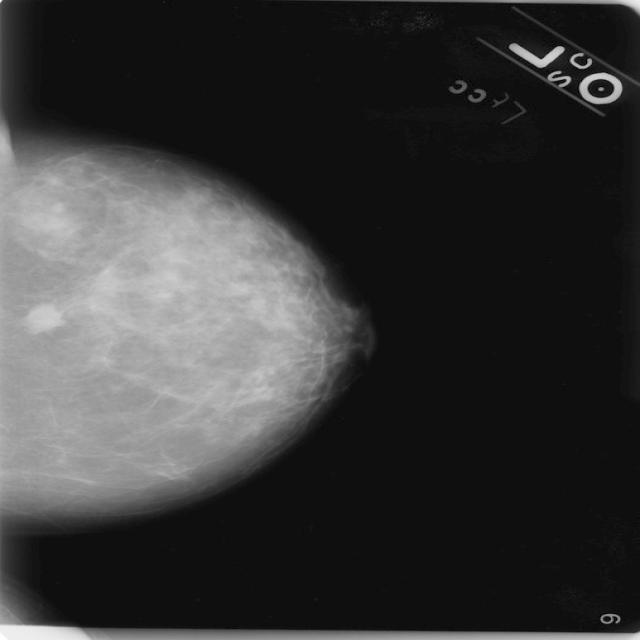tumour: (20, 301, 63, 335)
